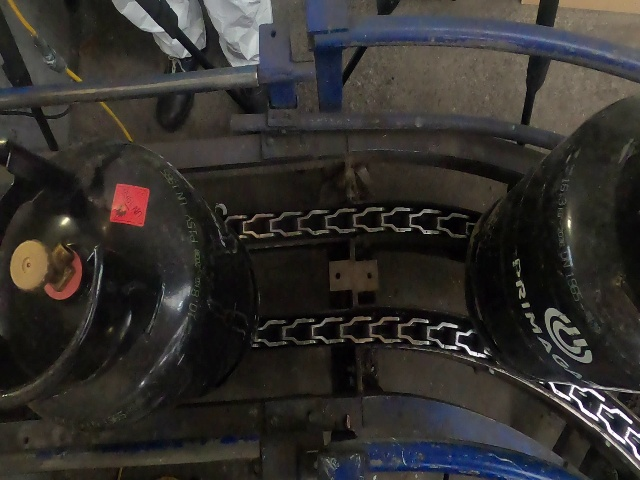gas_bottle: (2, 0, 637, 480)
